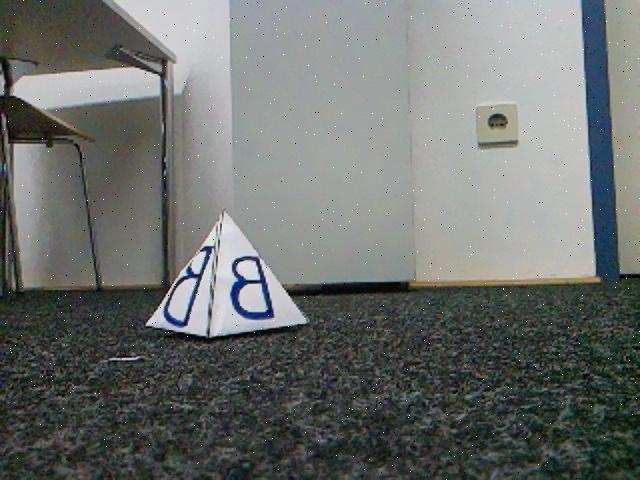B: (142, 200, 305, 342)
